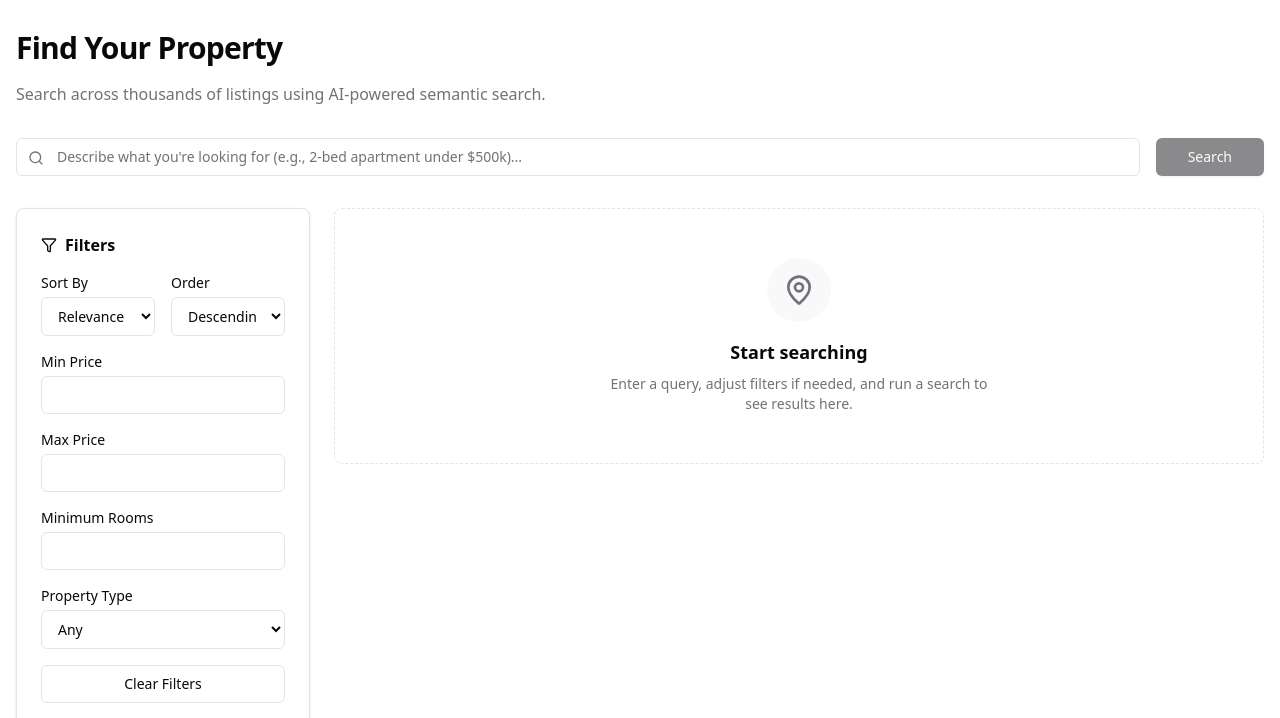
it: SearchPage › shows export error on failure
Replace the text in the field named "Search query" with "Test" at (578, 157), box [16,138,1140,176]
(page scrolled)
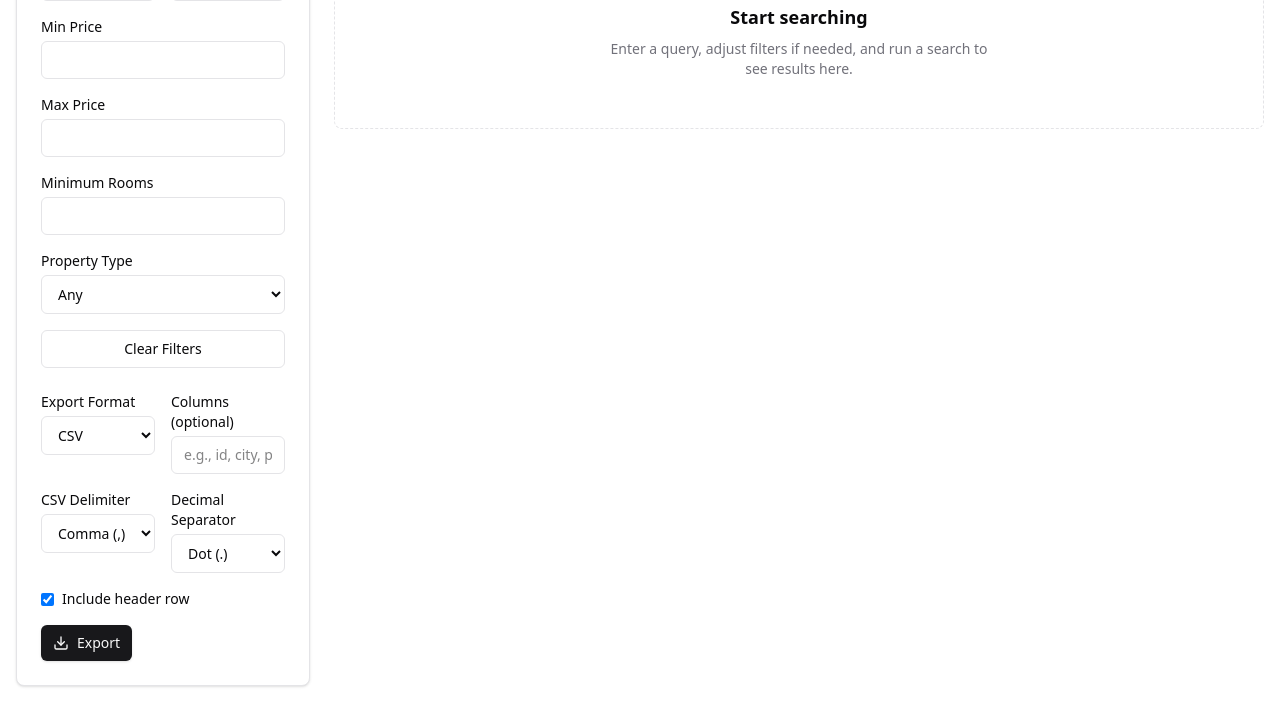
Click the button "Export".
click(87, 643)  # box [41,625,132,661]
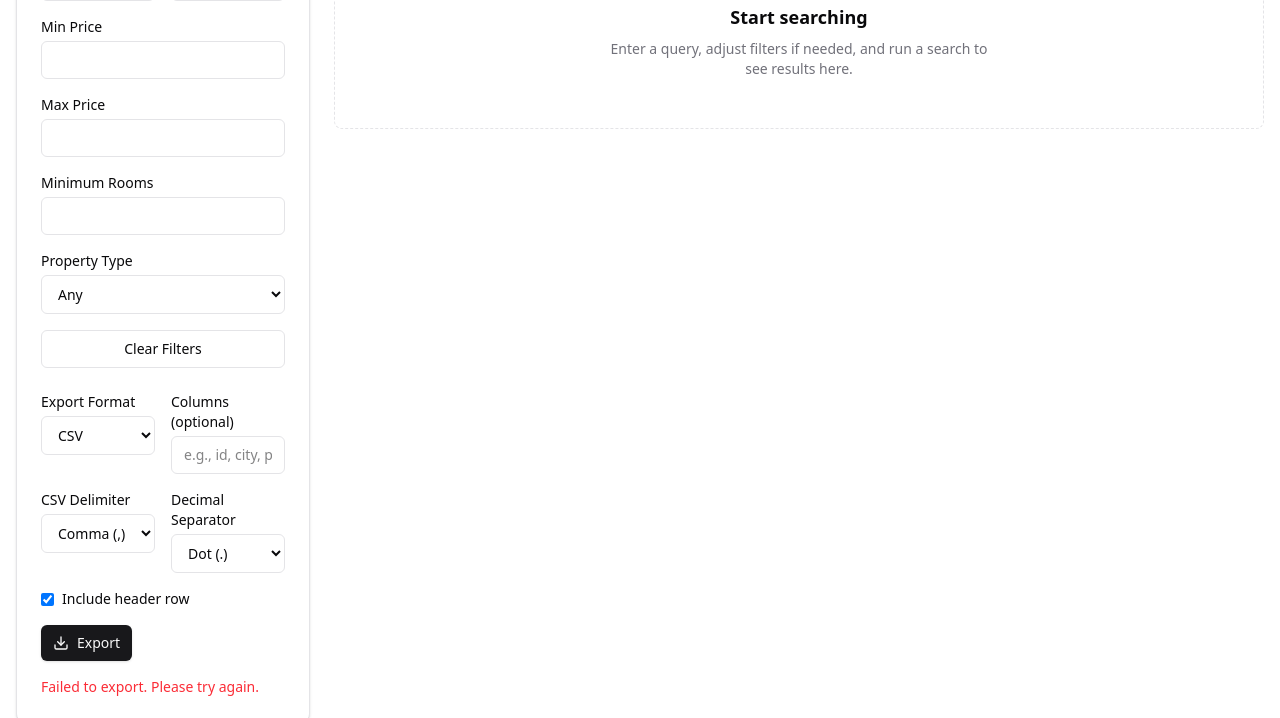
expect the message "Failed to export. Please try again." is shown: met, box [41,677,285,697]
